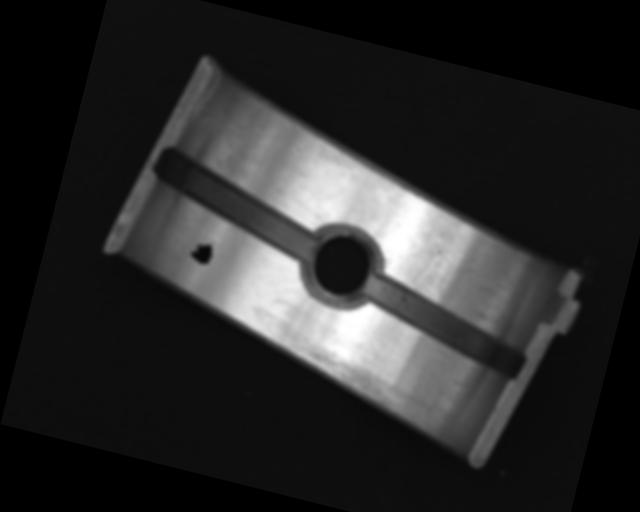blot: (186, 235, 218, 268)
bruise: (456, 252, 482, 277), (289, 140, 305, 158)
gap: (144, 147, 330, 264), (353, 273, 538, 380)
hole: (293, 216, 390, 318)
nick: (408, 230, 447, 294)
scratch: (280, 338, 442, 432)
